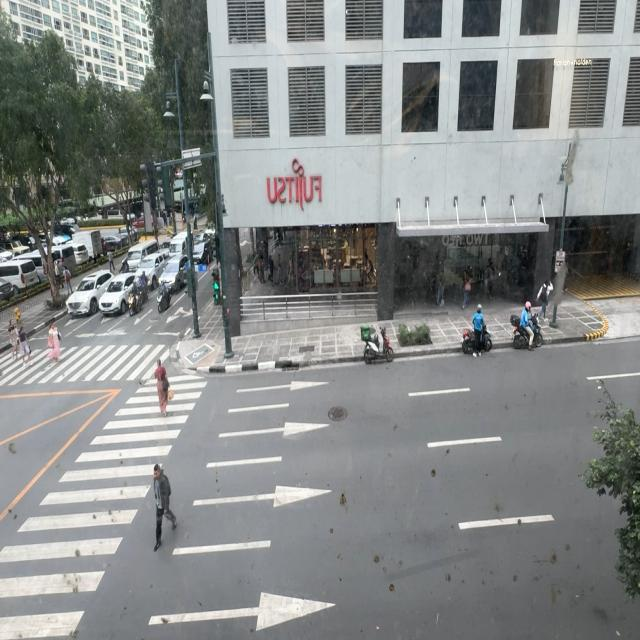jaywalking: (145, 460, 178, 557)
